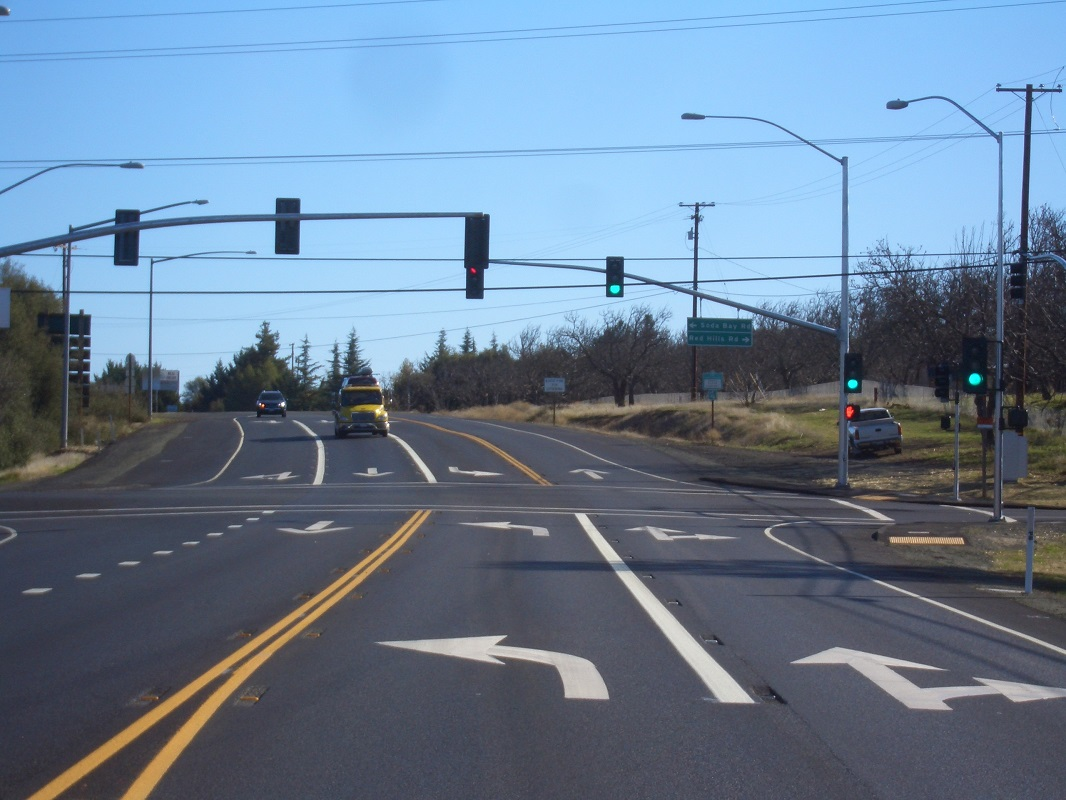traffic_light: (960, 336, 989, 395), (603, 254, 626, 299), (842, 351, 865, 395)
